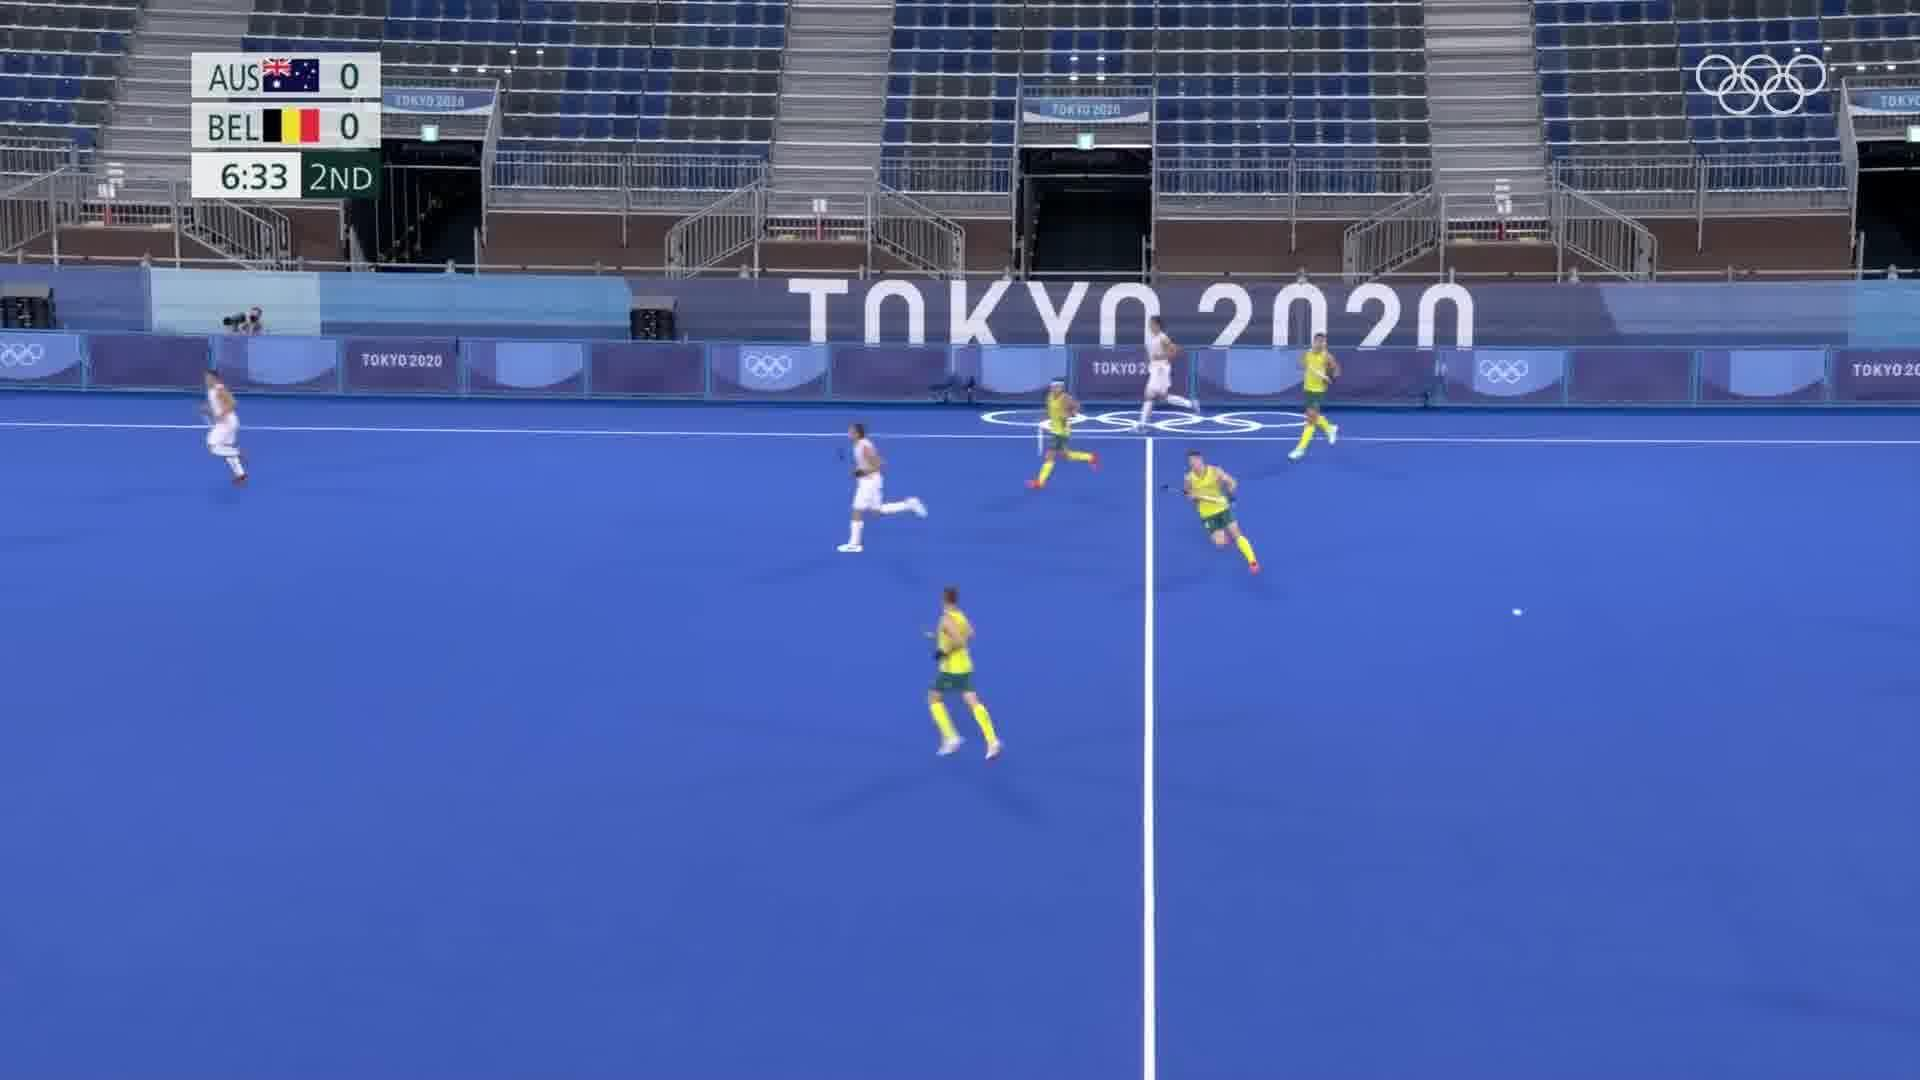ball: (1509, 600, 1528, 621)
